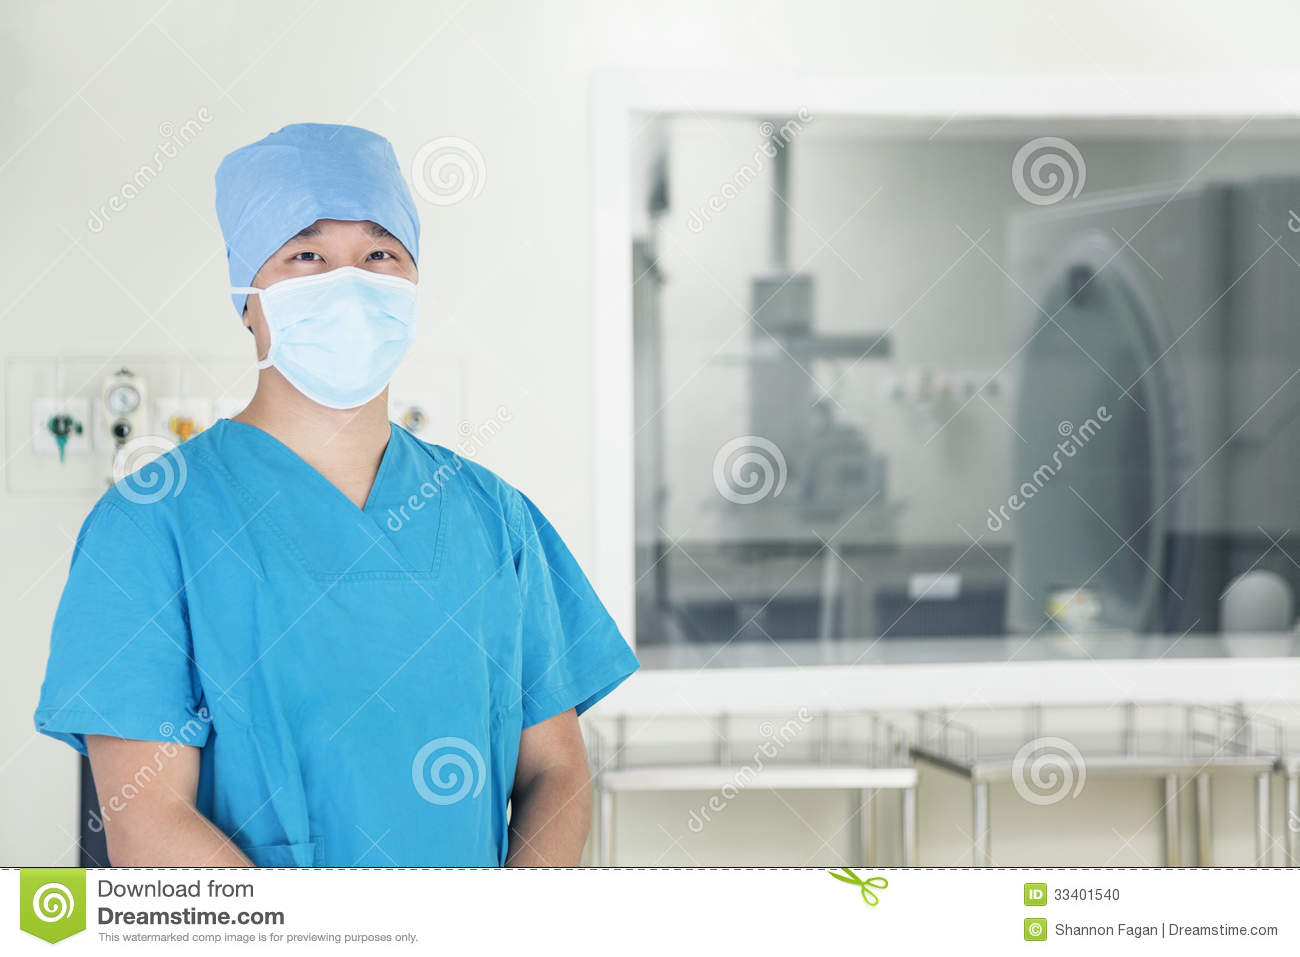mask: (253, 271, 417, 410)
